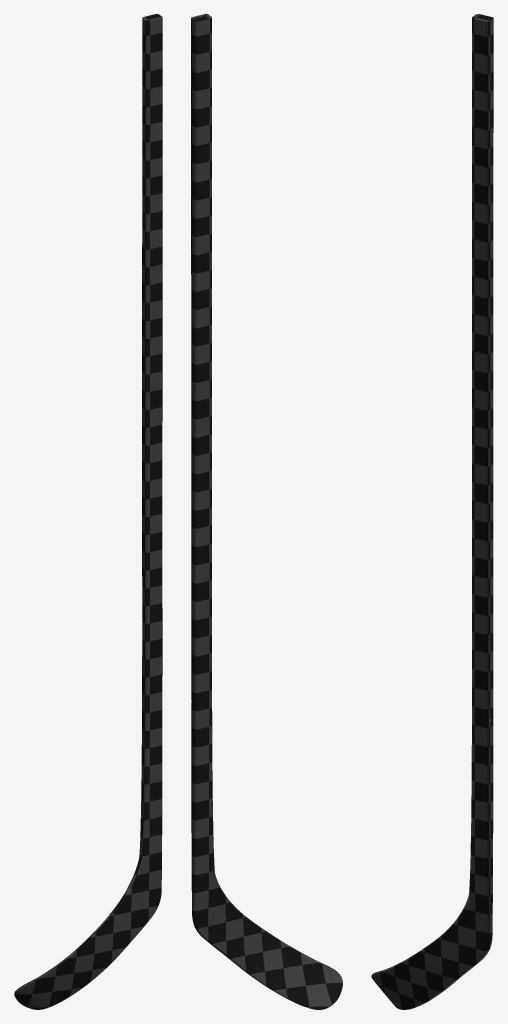
3 views of the same model, side by side, from view 1: azimuth 30°, elevation 25°; view 2: azimuth 210°, elevation 25°; view 3: azimuth 330°, elevation 25° (orthographic). The views are drawn at different scales.
Parts seen in each view (by area): view 1: geometry_0; view 2: geometry_0; view 3: geometry_0.
Boxes of the visible parts, box(x1,y1,x2,y2) form: geometry_0: box(14, 14, 162, 1009); geometry_0: box(191, 14, 342, 1009); geometry_0: box(371, 14, 493, 1009).
Bounding box in the file's own units: 229 × 1650 × 71.36.
1 material, 1 textured.
